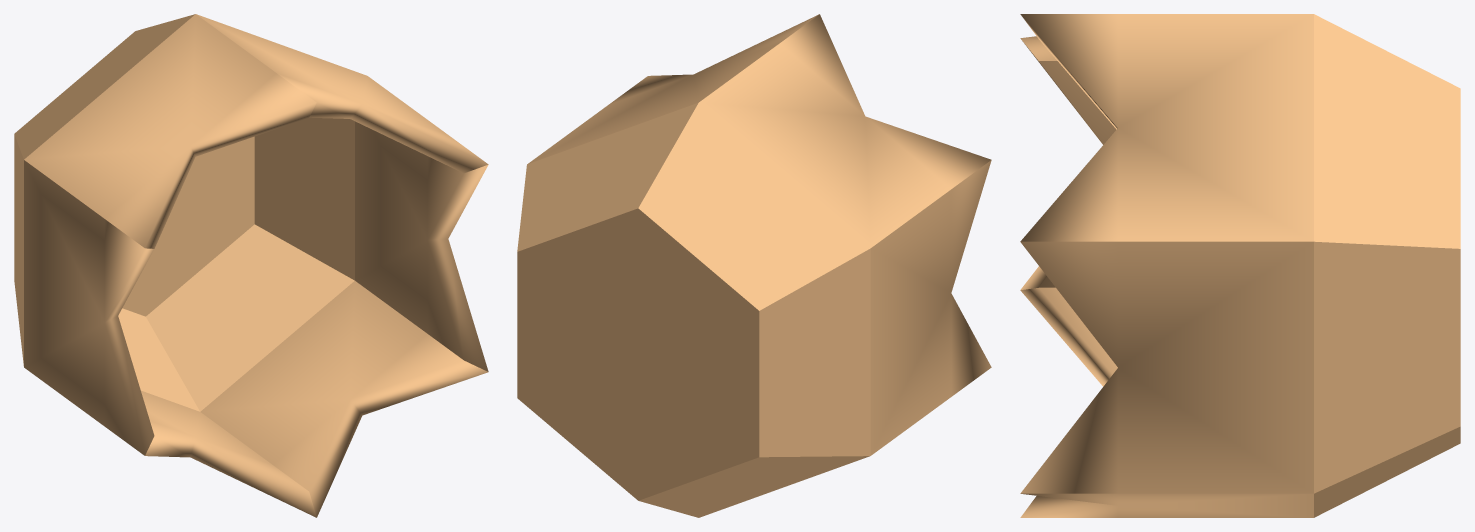
File: eggshell_flat_half_collision.obj
3 renders of one model, left to right at view 1: azimuth 30°, elevation 25°; view 2: azimuth 150°, elevation 25°; view 3: azimuth 270°, elevation 25°, orthographic. The views are drawn at different scales.
Visible parts, largest first — view 1: eggHalf.008_eggHalf.009, eggHalf.005_eggHalf.006, eggHalf.002_eggHalf.003, eggHalf.006_eggHalf.007, eggHalf.012_eggHalf.013, eggHalf.013_eggHalf.014, eggHalf.003_eggHalf.004, eggHalf.007_eggHalf.008, eggHalf.004_eggHalf.005, eggHalf.009_eggHalf.010, eggHalf.011_eggHalf.012, eggHalf.010_eggHalf.011; view 2: eggHalf.003_eggHalf.004, eggHalf.008_eggHalf.009, eggHalf.009_eggHalf.010, eggHalf.002_eggHalf.003, eggHalf.010_eggHalf.011, eggHalf.014_eggHalf.015, eggHalf.007_eggHalf.008, eggHalf.011_eggHalf.012; view 3: eggHalf.006_eggHalf.007, eggHalf.007_eggHalf.008, eggHalf.013_eggHalf.014, eggHalf.014_eggHalf.015, eggHalf.005_eggHalf.006, eggHalf.012_eggHalf.013, eggHalf.004_eggHalf.005, eggHalf.002_eggHalf.003.
Boxes of the visible parts, x1,y1,x2,y2 form: eggHalf.008_eggHalf.009: (24, 14, 316, 248); eggHalf.005_eggHalf.006: (200, 281, 488, 517); eggHalf.002_eggHalf.003: (24, 160, 154, 455); eggHalf.006_eggHalf.007: (355, 121, 488, 371); eggHalf.012_eggHalf.013: (146, 224, 354, 411); eggHalf.013_eggHalf.014: (254, 117, 354, 280); eggHalf.003_eggHalf.004: (122, 136, 254, 316); eggHalf.007_eggHalf.008: (196, 14, 488, 173); eggHalf.004_eggHalf.005: (141, 390, 316, 517); eggHalf.009_eggHalf.010: (14, 14, 195, 159); eggHalf.011_eggHalf.012: (118, 308, 199, 411); eggHalf.010_eggHalf.011: (14, 134, 23, 365); eggHalf.003_eggHalf.004: (517, 208, 759, 500); eggHalf.008_eggHalf.009: (699, 14, 991, 248); eggHalf.009_eggHalf.010: (638, 103, 870, 310); eggHalf.002_eggHalf.003: (870, 160, 991, 455); eggHalf.010_eggHalf.011: (759, 248, 870, 457); eggHalf.014_eggHalf.015: (517, 103, 698, 251); eggHalf.007_eggHalf.008: (527, 14, 818, 164); eggHalf.011_eggHalf.012: (638, 456, 869, 517); eggHalf.006_eggHalf.007: (1020, 241, 1313, 493); eggHalf.007_eggHalf.008: (1020, 14, 1313, 241); eggHalf.013_eggHalf.014: (1314, 241, 1460, 493); eggHalf.014_eggHalf.015: (1314, 14, 1460, 248); eggHalf.005_eggHalf.006: (1020, 493, 1313, 517); eggHalf.012_eggHalf.013: (1314, 426, 1460, 517); eggHalf.004_eggHalf.005: (1020, 287, 1117, 386); eggHalf.002_eggHalf.003: (1020, 41, 1116, 289).
Size of the model in its own units: 0.1161 by 0.134 by 0.1062.
